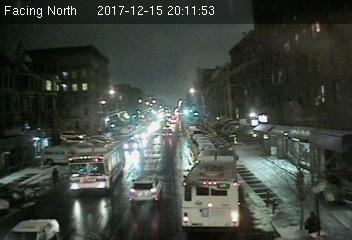bus: (181, 149, 242, 231), (68, 141, 125, 194)
car: (127, 171, 165, 203)
